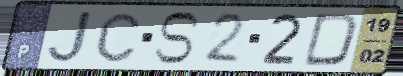2: (198, 10, 250, 68), (260, 12, 304, 66)
C: (94, 11, 142, 64)
D: (300, 11, 362, 68)
J: (44, 9, 96, 65)
S: (151, 10, 203, 66)
